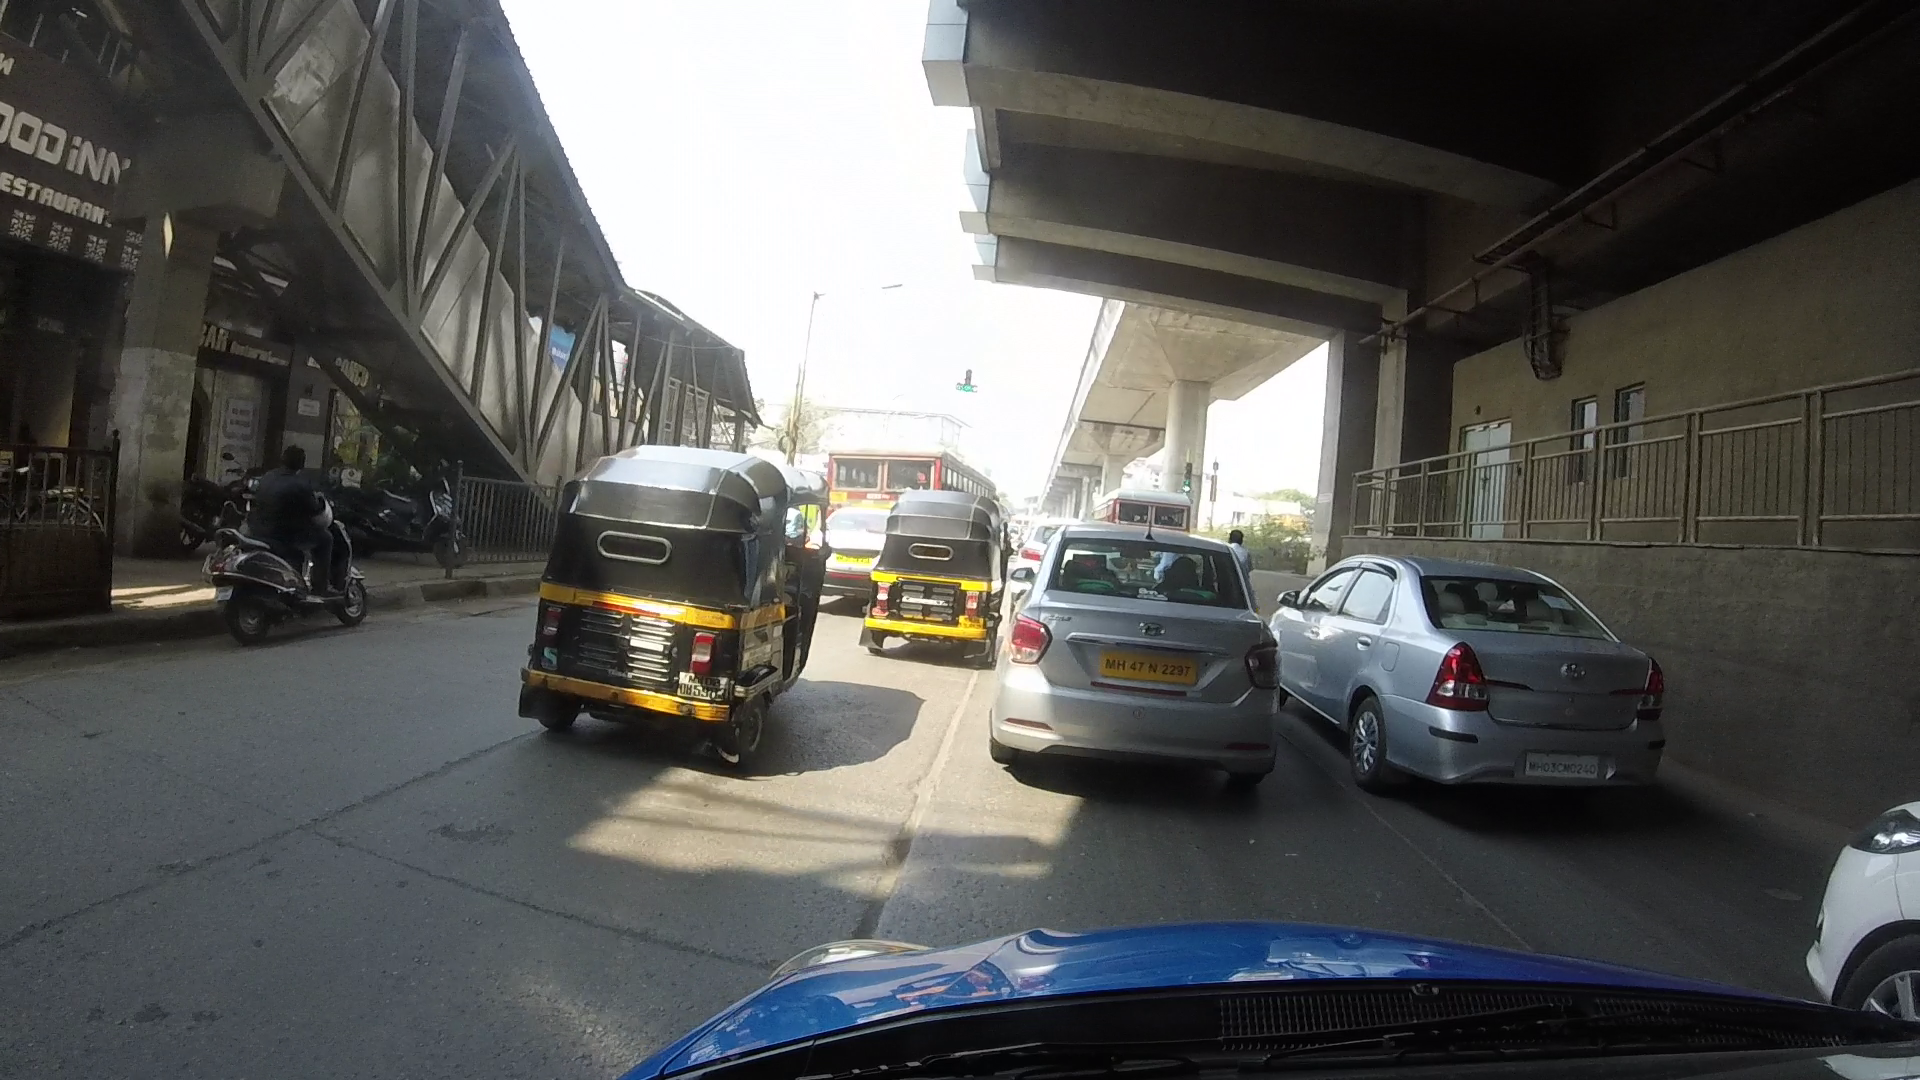bike/scooter: (214, 458, 378, 647)
bus: (804, 436, 986, 592)
car: (1258, 556, 1681, 810), (996, 530, 1278, 781)
rickshaw: (541, 427, 822, 774), (869, 483, 990, 663)
